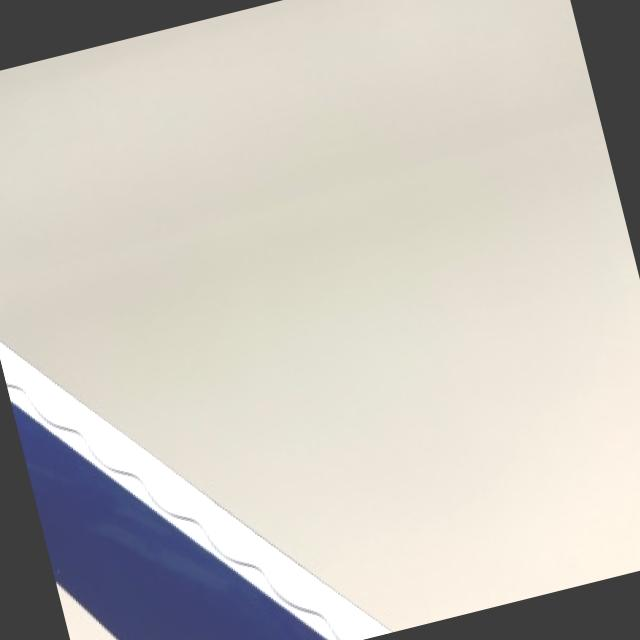healthy: (0, 27, 279, 535)
